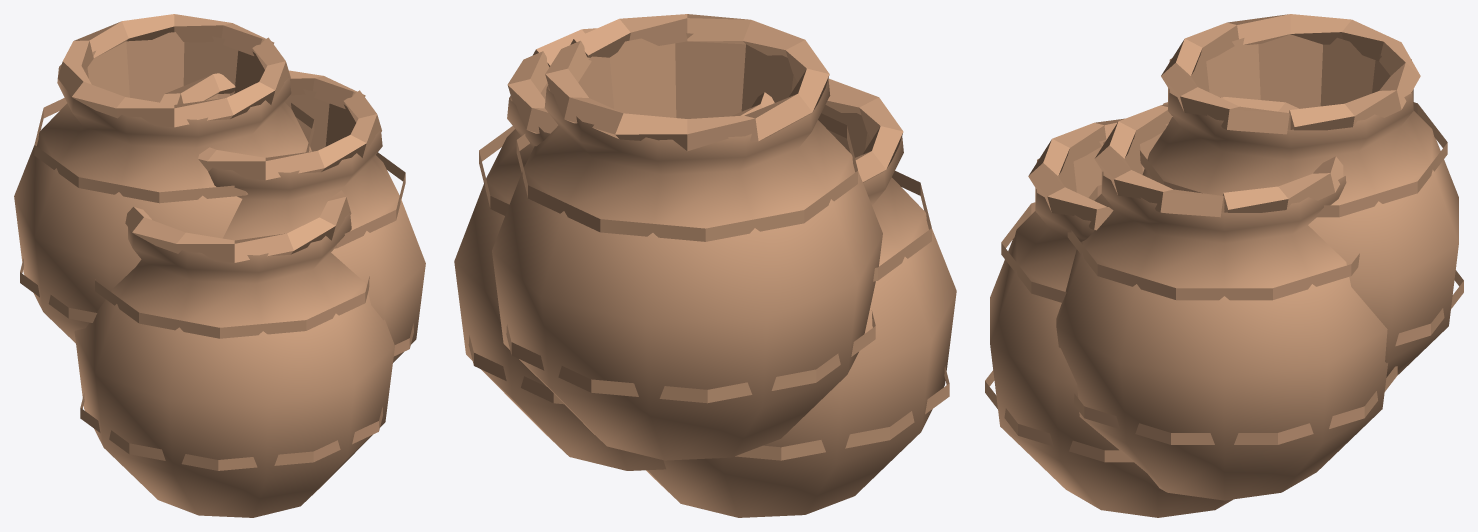
File: item_088_honey_m.glb
The picture shows the model from 3 angles, left to right: view 1: azimuth 30°, elevation 25°; view 2: azimuth 150°, elevation 25°; view 3: azimuth 270°, elevation 25°; orthographic projection. The views are drawn at different scales.
Parts seen in each view (by area): view 1: item_088_honey_m; view 2: item_088_honey_m; view 3: item_088_honey_m.
Part boxes in pixels (x1,y1,x2,y2): item_088_honey_m: [14, 14, 425, 517]; item_088_honey_m: [454, 14, 956, 517]; item_088_honey_m: [985, 14, 1463, 517].
Size of the model in its own units: 0.39 by 0.4136 by 0.4333.
